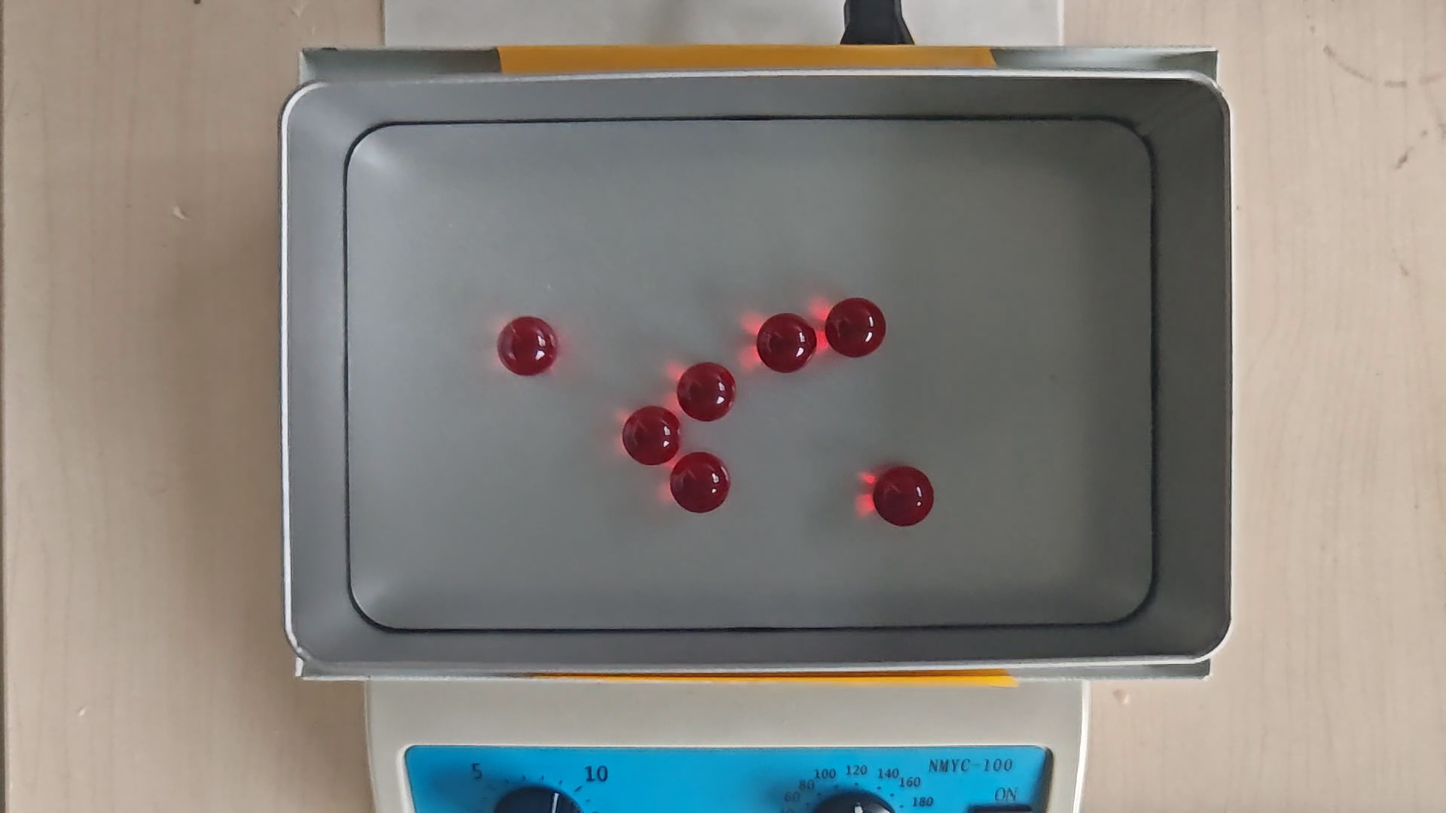ball: (874, 464, 934, 528), (826, 298, 885, 358), (677, 363, 735, 422), (759, 313, 816, 373), (673, 452, 729, 513), (501, 315, 555, 377), (624, 404, 679, 464)
container: (340, 116, 1156, 628)
